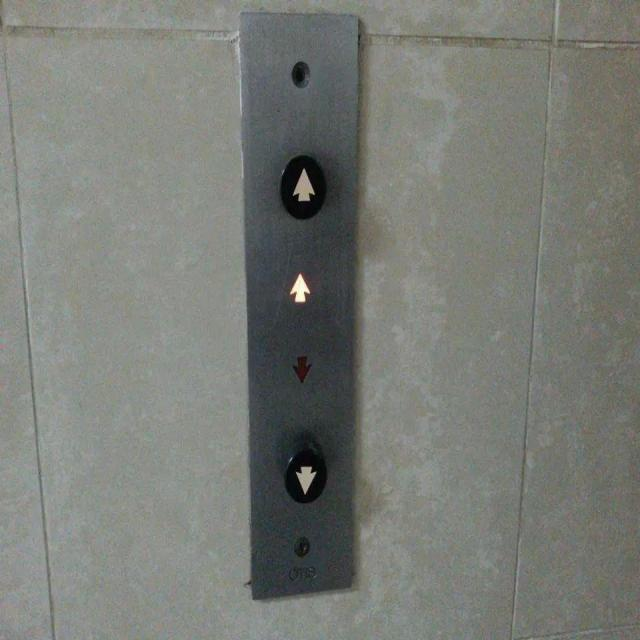down: (283, 440, 328, 506)
up: (277, 151, 327, 221)
